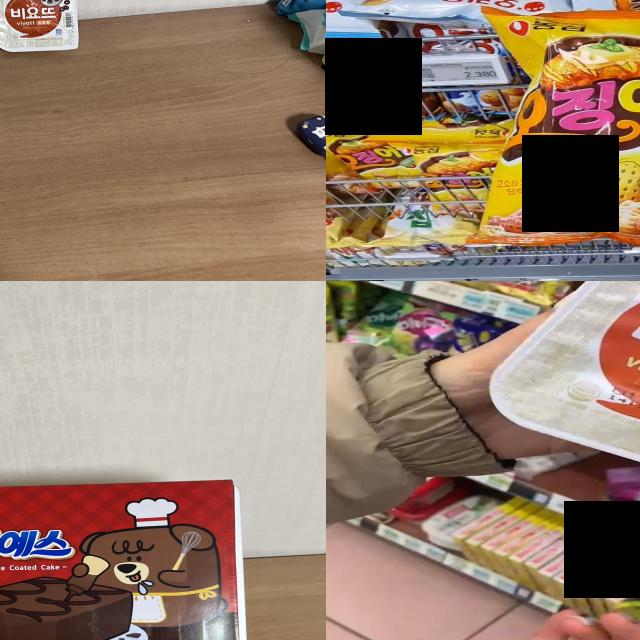bYott: (491, 281, 640, 492), (0, 0, 82, 52)
ohYes: (0, 487, 236, 640)
ozingZip: (487, 23, 640, 242)
